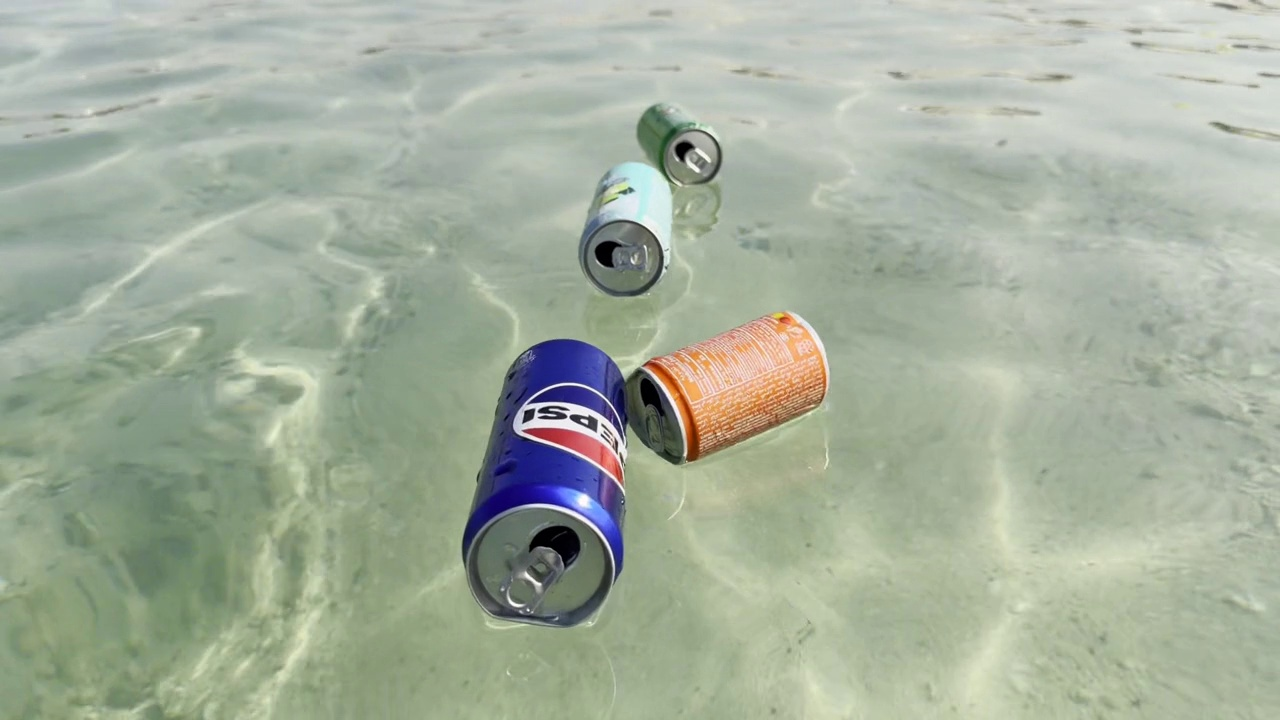debris: (457, 331, 627, 632), (611, 298, 834, 481), (570, 155, 684, 307), (627, 94, 730, 196)
